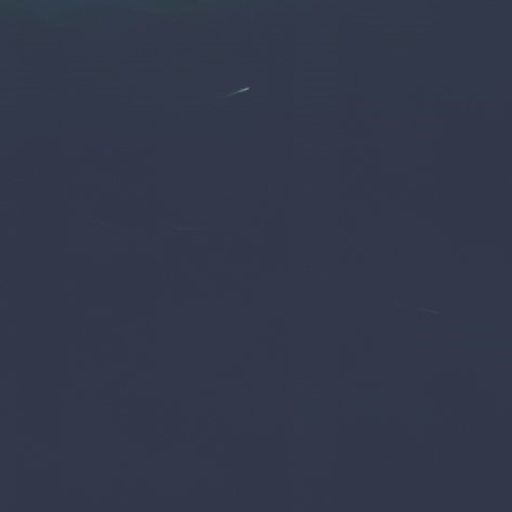ship: (239, 85, 252, 94)
